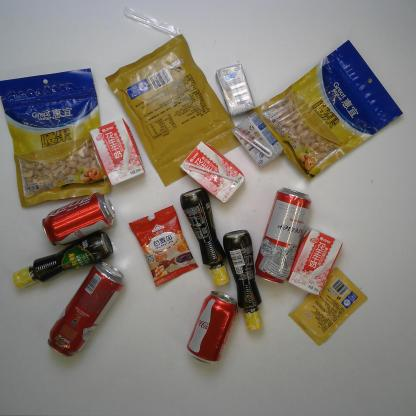Alcohol: (46, 258, 126, 358), (250, 186, 314, 288)
Dried Fruit: (247, 37, 407, 184), (102, 32, 247, 189), (0, 65, 116, 210)
Drink: (39, 191, 119, 249), (185, 289, 239, 366)
Instant Drink: (126, 203, 201, 290)
Milk: (178, 137, 246, 206), (87, 116, 147, 189), (284, 226, 344, 298), (231, 110, 286, 169), (214, 61, 257, 119)
Seasoner: (286, 265, 369, 349), (10, 228, 115, 291), (178, 186, 232, 289), (220, 226, 266, 333)
